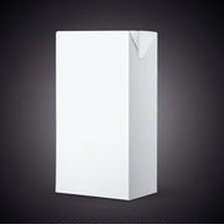carton: (46, 22, 170, 205)
